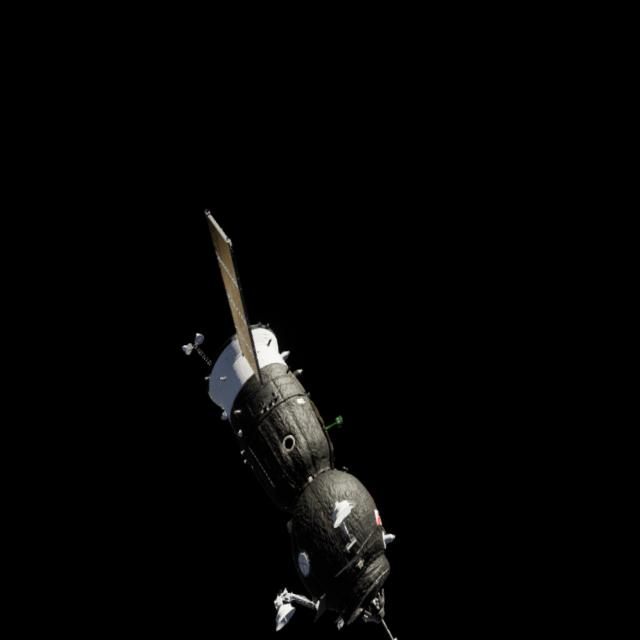Satellites revolving around earth: (130, 204, 467, 640)
